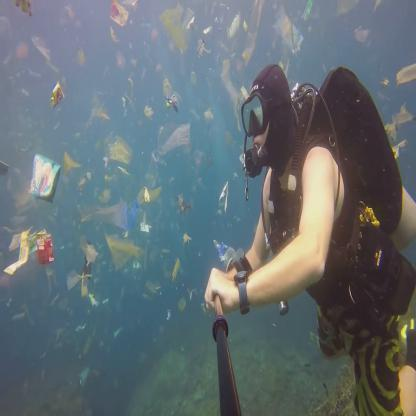Rác: (15, 223, 58, 261), (272, 11, 308, 55), (154, 118, 200, 152), (156, 8, 190, 53), (29, 148, 56, 202), (75, 233, 94, 297), (100, 132, 132, 168), (105, 233, 142, 262), (221, 64, 240, 106), (134, 182, 160, 212), (46, 297, 74, 324), (36, 35, 58, 67), (226, 11, 244, 40), (346, 22, 372, 42), (386, 64, 414, 82), (48, 82, 68, 105), (221, 162, 229, 218), (105, 1, 129, 19), (88, 95, 106, 118), (75, 360, 93, 383), (122, 72, 132, 112), (16, 36, 27, 66), (178, 226, 192, 248), (202, 108, 218, 125), (199, 34, 209, 61), (110, 325, 126, 337), (170, 266, 180, 278), (105, 298, 111, 306)
